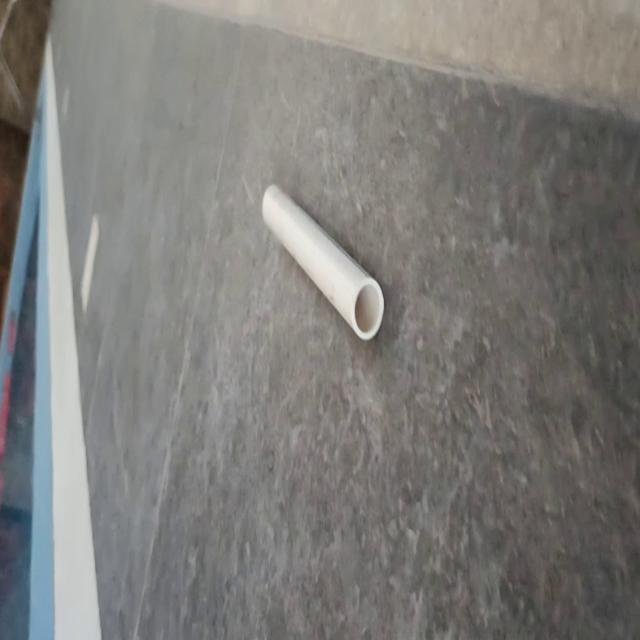Cube: (261, 182, 385, 342)
